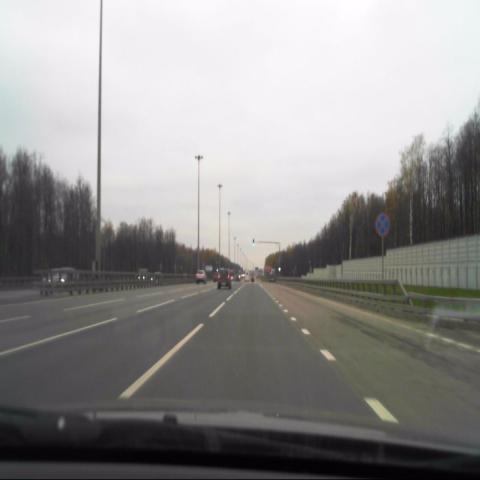3_27: (375, 209, 390, 235)
